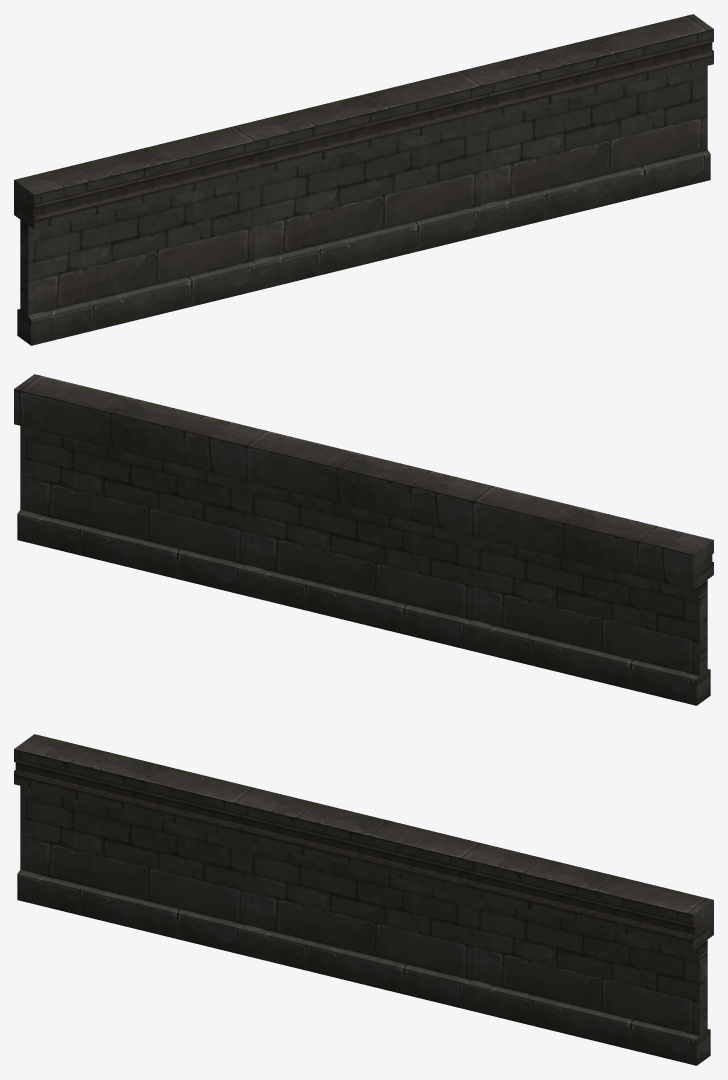
Rendered from sewer_wall003.FBX.
The picture shows the model from 3 angles, top to bottom: view 1: azimuth 30°, elevation 25°; view 2: azimuth 150°, elevation 25°; view 3: azimuth 330°, elevation 25°; orthographic projection.
Parts seen in each view (by area): view 1: sewer_wall003; view 2: sewer_wall003; view 3: sewer_wall003.
Boxes of the visible parts, x1,y1,x2,y2 form: sewer_wall003: [14, 14, 713, 345]; sewer_wall003: [14, 374, 713, 705]; sewer_wall003: [14, 734, 713, 1065].
Size of the model in its own units: 1992 by 430 by 104.
